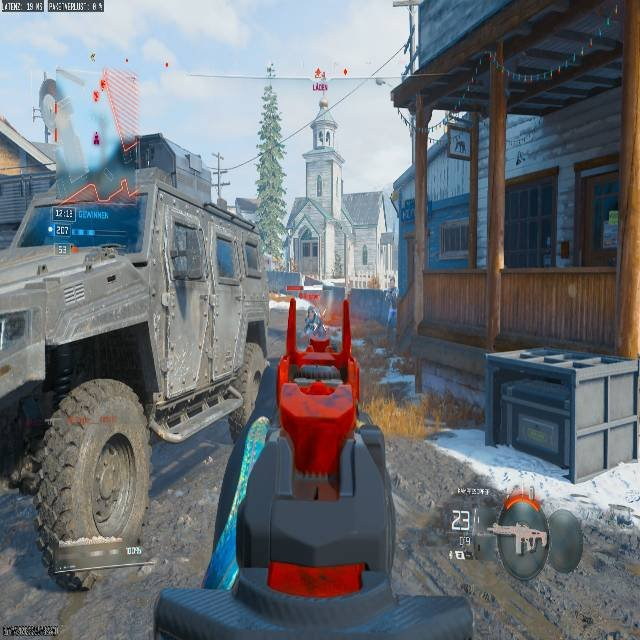player: (303, 305, 323, 348), (304, 313, 315, 335)
